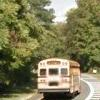buses: (38, 58, 80, 98)
